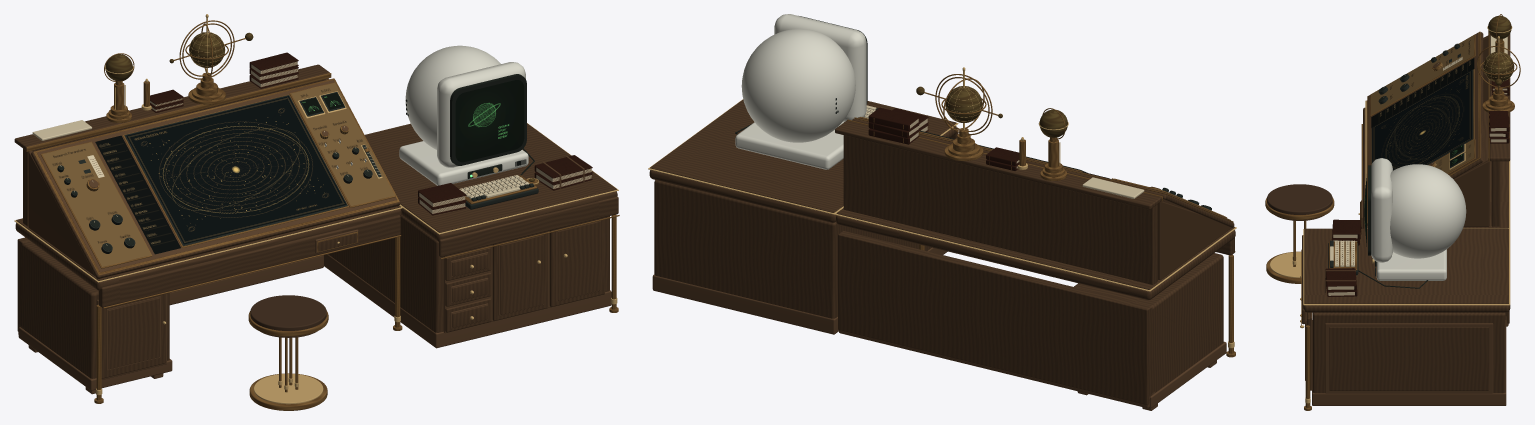
Rendered from liminette-astronomy-desk.glb.
3 renders of one model, left to right at view 1: azimuth 30°, elevation 25°; view 2: azimuth 150°, elevation 25°; view 3: azimuth 270°, elevation 25°, orthographic. The views are drawn at different scales.
Parts seen in each view (by area): view 1: ASTRODESK__warm_walnut_veneer.002, ASTRODESK__celestial_atlas_chart.002, ASTRODESK__walnut_recesses_and_end_grain.002, ASTRODESK__aged_brushed_brass.002, ASTRODESK__engraved_brushed_control_panels.002, ASTRODESK__warm_ivory_enamel.002, ASTRODESK__Saturn_green_phosphor_CRT.002, ASTRODESK__polished_brass_edges.002, ASTRODESK__oxblood_leather_books.002, ASTRODESK__engraved_orbital_legend.002, ASTRODESK__black_bakelite.002, ASTRODESK__dark_brown_stool_leather.002 (+4 smaller); view 2: ASTRODESK__warm_walnut_veneer.002, ASTRODESK__warm_ivory_enamel.002, ASTRODESK__walnut_recesses_and_end_grain.002, ASTRODESK__aged_brushed_brass.002, ASTRODESK__oxblood_leather_books.002, ASTRODESK__polished_brass_edges.002, ASTRODESK__antique_terrestrial_globe.002, ASTRODESK__parchment_keycaps.002; view 3: ASTRODESK__warm_walnut_veneer.002, ASTRODESK__warm_ivory_enamel.002, ASTRODESK__walnut_recesses_and_end_grain.002, ASTRODESK__celestial_atlas_chart.002, ASTRODESK__aged_brushed_brass.002, ASTRODESK__engraved_brushed_control_panels.002, ASTRODESK__polished_brass_edges.002, ASTRODESK__oxblood_leather_books.002, ASTRODESK__dark_brown_stool_leather.002, ASTRODESK__antique_terrestrial_globe.002, ASTRODESK__engraved_orbital_legend.002, ASTRODESK__black_bakelite.002 (+3 smaller).
Part boxes in pixels (x1=…): ASTRODESK__warm_walnut_veneer.002: x1=14, y1=64, x2=618, y2=378; ASTRODESK__celestial_atlas_chart.002: x1=126, y1=96, x2=346, y2=244; ASTRODESK__walnut_recesses_and_end_grain.002: x1=18, y1=62, x2=611, y2=394; ASTRODESK__aged_brushed_brass.002: x1=26, y1=20, x2=619, y2=410; ASTRODESK__engraved_brushed_control_panels.002: x1=42, y1=83, x2=394, y2=266; ASTRODESK__warm_ivory_enamel.002: x1=324, y1=45, x2=528, y2=185; ASTRODESK__Saturn_green_phosphor_CRT.002: x1=455, y1=80, x2=524, y2=162; ASTRODESK__polished_brass_edges.002: x1=14, y1=14, x2=618, y2=404; ASTRODESK__oxblood_leather_books.002: x1=150, y1=52, x2=592, y2=215; ASTRODESK__engraved_orbital_legend.002: x1=95, y1=135, x2=180, y2=254; ASTRODESK__black_bakelite.002: x1=57, y1=92, x2=538, y2=253; ASTRODESK__dark_brown_stool_leather.002: x1=250, y1=295, x2=326, y2=330; ASTRODESK__warm_walnut_veneer.002: x1=649, y1=99, x2=1235, y2=405; ASTRODESK__warm_ivory_enamel.002: x1=735, y1=14, x2=866, y2=169; ASTRODESK__walnut_recesses_and_end_grain.002: x1=652, y1=110, x2=1230, y2=410; ASTRODESK__aged_brushed_brass.002: x1=847, y1=74, x2=1235, y2=357; ASTRODESK__oxblood_leather_books.002: x1=868, y1=107, x2=1019, y2=170; ASTRODESK__polished_brass_edges.002: x1=648, y1=67, x2=1236, y2=348; ASTRODESK__antique_terrestrial_globe.002: x1=916, y1=86, x2=1067, y2=137; ASTRODESK__parchment_keycaps.002: x1=864, y1=105, x2=1193, y2=200; ASTRODESK__warm_walnut_veneer.002: x1=1302, y1=32, x2=1510, y2=393; ASTRODESK__warm_ivory_enamel.002: x1=1371, y1=158, x2=1466, y2=280; ASTRODESK__walnut_recesses_and_end_grain.002: x1=1275, y1=33, x2=1508, y2=405; ASTRODESK__celestial_atlas_chart.002: x1=1372, y1=70, x2=1471, y2=170; ASTRODESK__aged_brushed_brass.002: x1=1265, y1=14, x2=1520, y2=410; ASTRODESK__engraved_brushed_control_panels.002: x1=1371, y1=35, x2=1473, y2=173; ASTRODESK__polished_brass_edges.002: x1=1270, y1=26, x2=1514, y2=403; ASTRODESK__oxblood_leather_books.002: x1=1325, y1=79, x2=1509, y2=296; ASTRODESK__dark_brown_stool_leather.002: x1=1267, y1=184, x2=1332, y2=214; ASTRODESK__antique_terrestrial_globe.002: x1=1483, y1=15, x2=1513, y2=85; ASTRODESK__engraved_orbital_legend.002: x1=1371, y1=58, x2=1474, y2=127; ASTRODESK__black_bakelite.002: x1=1328, y1=44, x2=1473, y2=276.
Bounding box in the file's own units: 3.52 × 2 × 1.85.
Materials: 18 (9 with a texture image).
